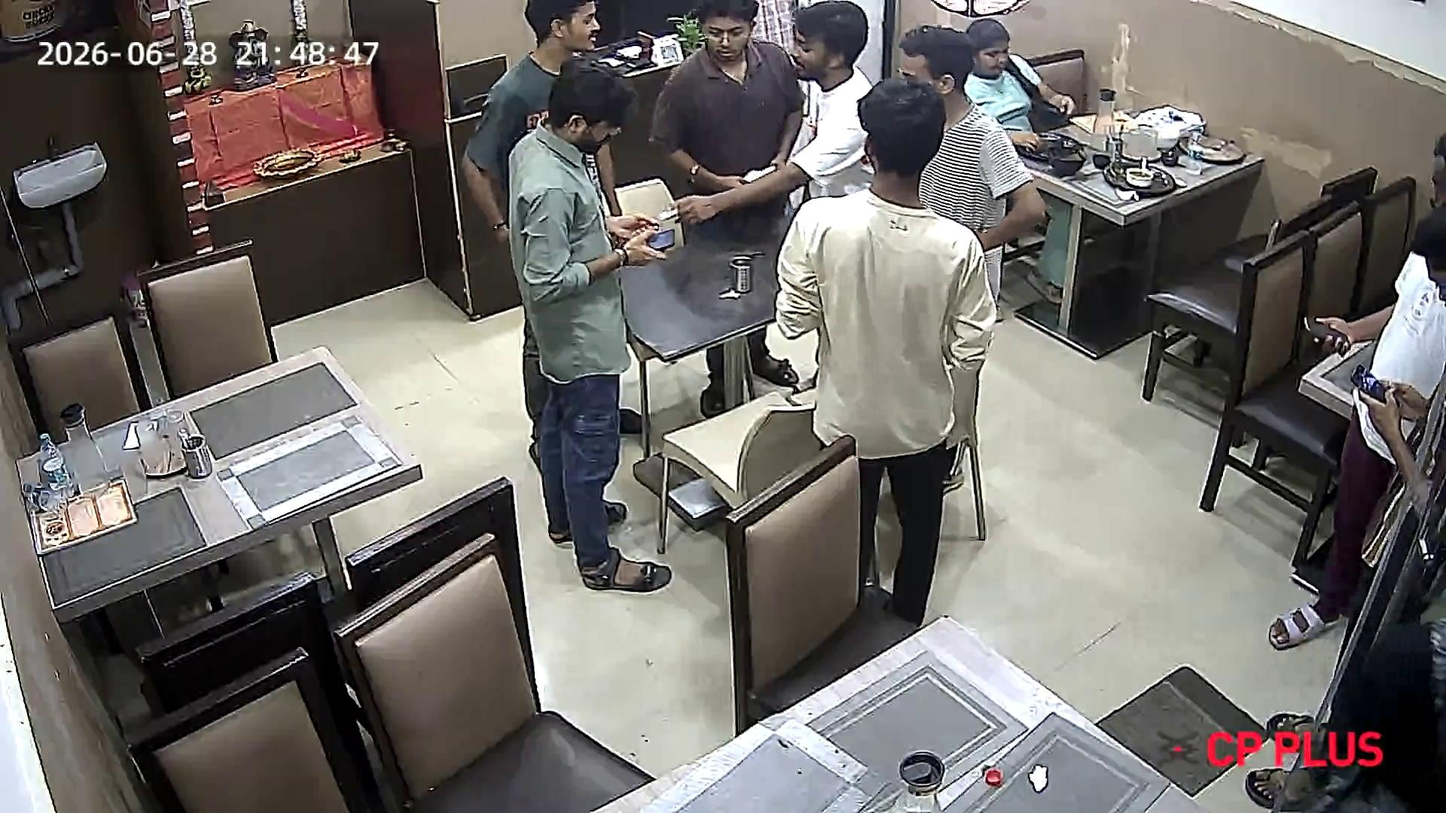clean: (634, 612, 1192, 813)
dirty: (8, 330, 418, 608)
occupied: (551, 173, 921, 340), (990, 58, 1248, 211)
